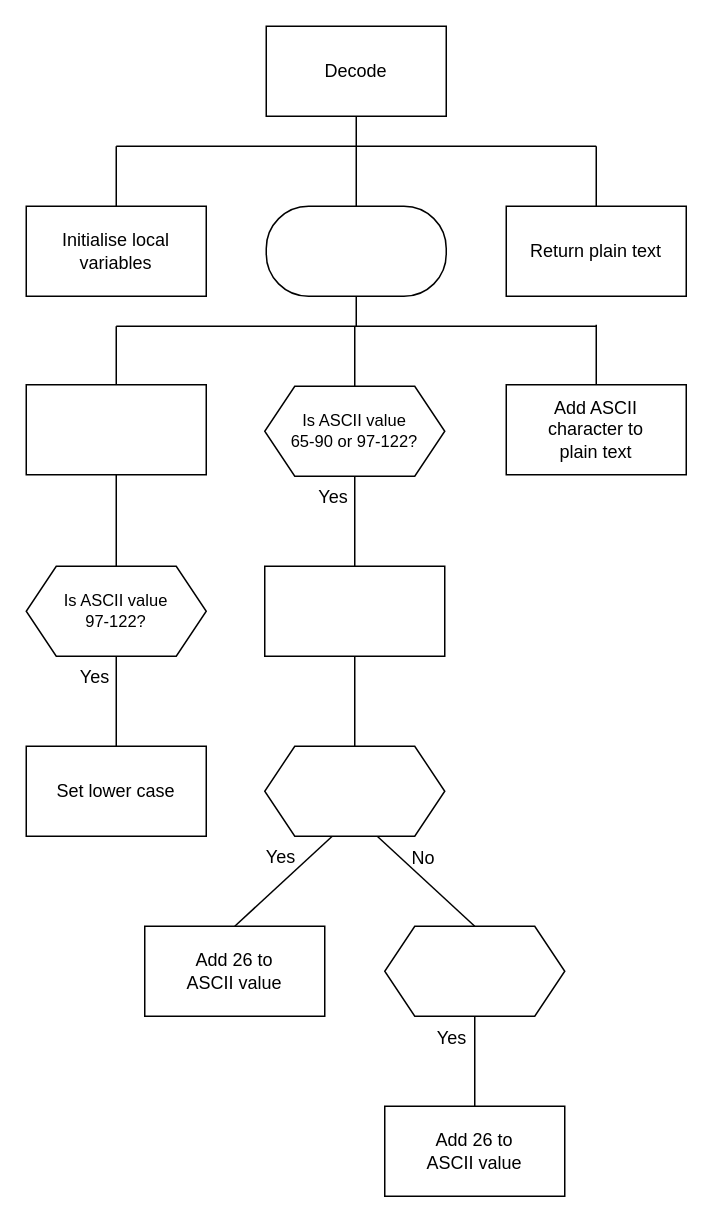
The diagram is 713 pixels wide and 1223 high, and some of its shapes have lost their labels. Each missing label, with the box of its shape:
Get ASCII value: (25, 383, 206, 475)
Is ASCII value < 65?: (263, 745, 445, 836)
Is lowercase and ASCII value < 97?: (383, 925, 565, 1016)
Loop for each letter in the cipher text: (265, 205, 446, 296)
Subtract shift value from ASCII value: (263, 565, 445, 656)
